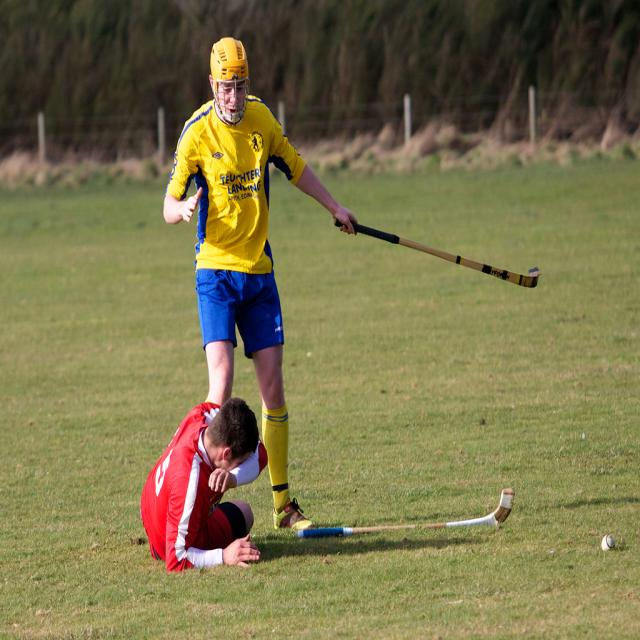Ball: (602, 536, 613, 552)
